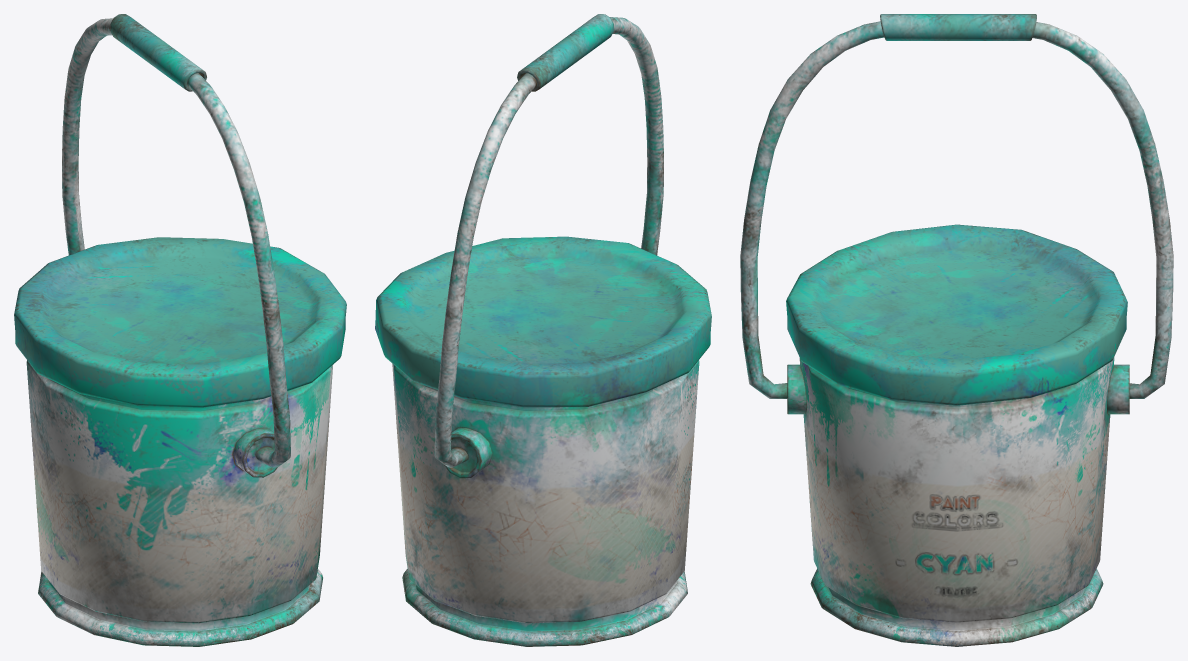
File: paint_can_-_aluminium_cyan_color.glb
3 renders of one model, left to right at view 1: azimuth 30°, elevation 25°; view 2: azimuth 150°, elevation 25°; view 3: azimuth 270°, elevation 25°, orthographic.
Visible parts, largest first — view 1: Painting can; view 2: Painting can; view 3: Painting can.
Boxes of the visible parts, box(x1,y1,x2,y2) form: Painting can: box(14, 14, 346, 646); Painting can: box(375, 14, 711, 646); Painting can: box(740, 14, 1173, 646).
Bounding box in the file's own units: 0.4938 × 0.8936 × 0.626.
1 material, 1 textured.
